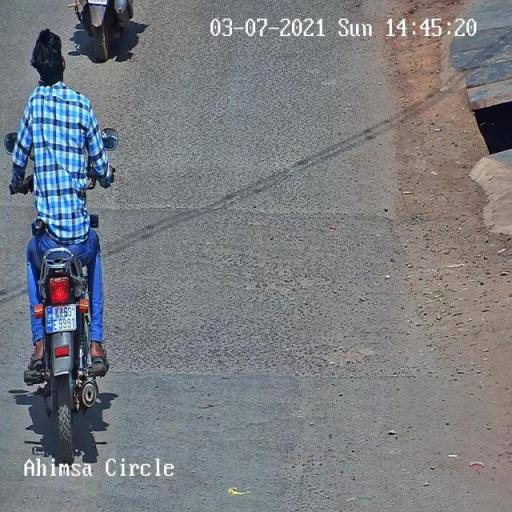numberplate: (44, 303, 80, 336)
using mobile: (36, 77, 50, 93)
